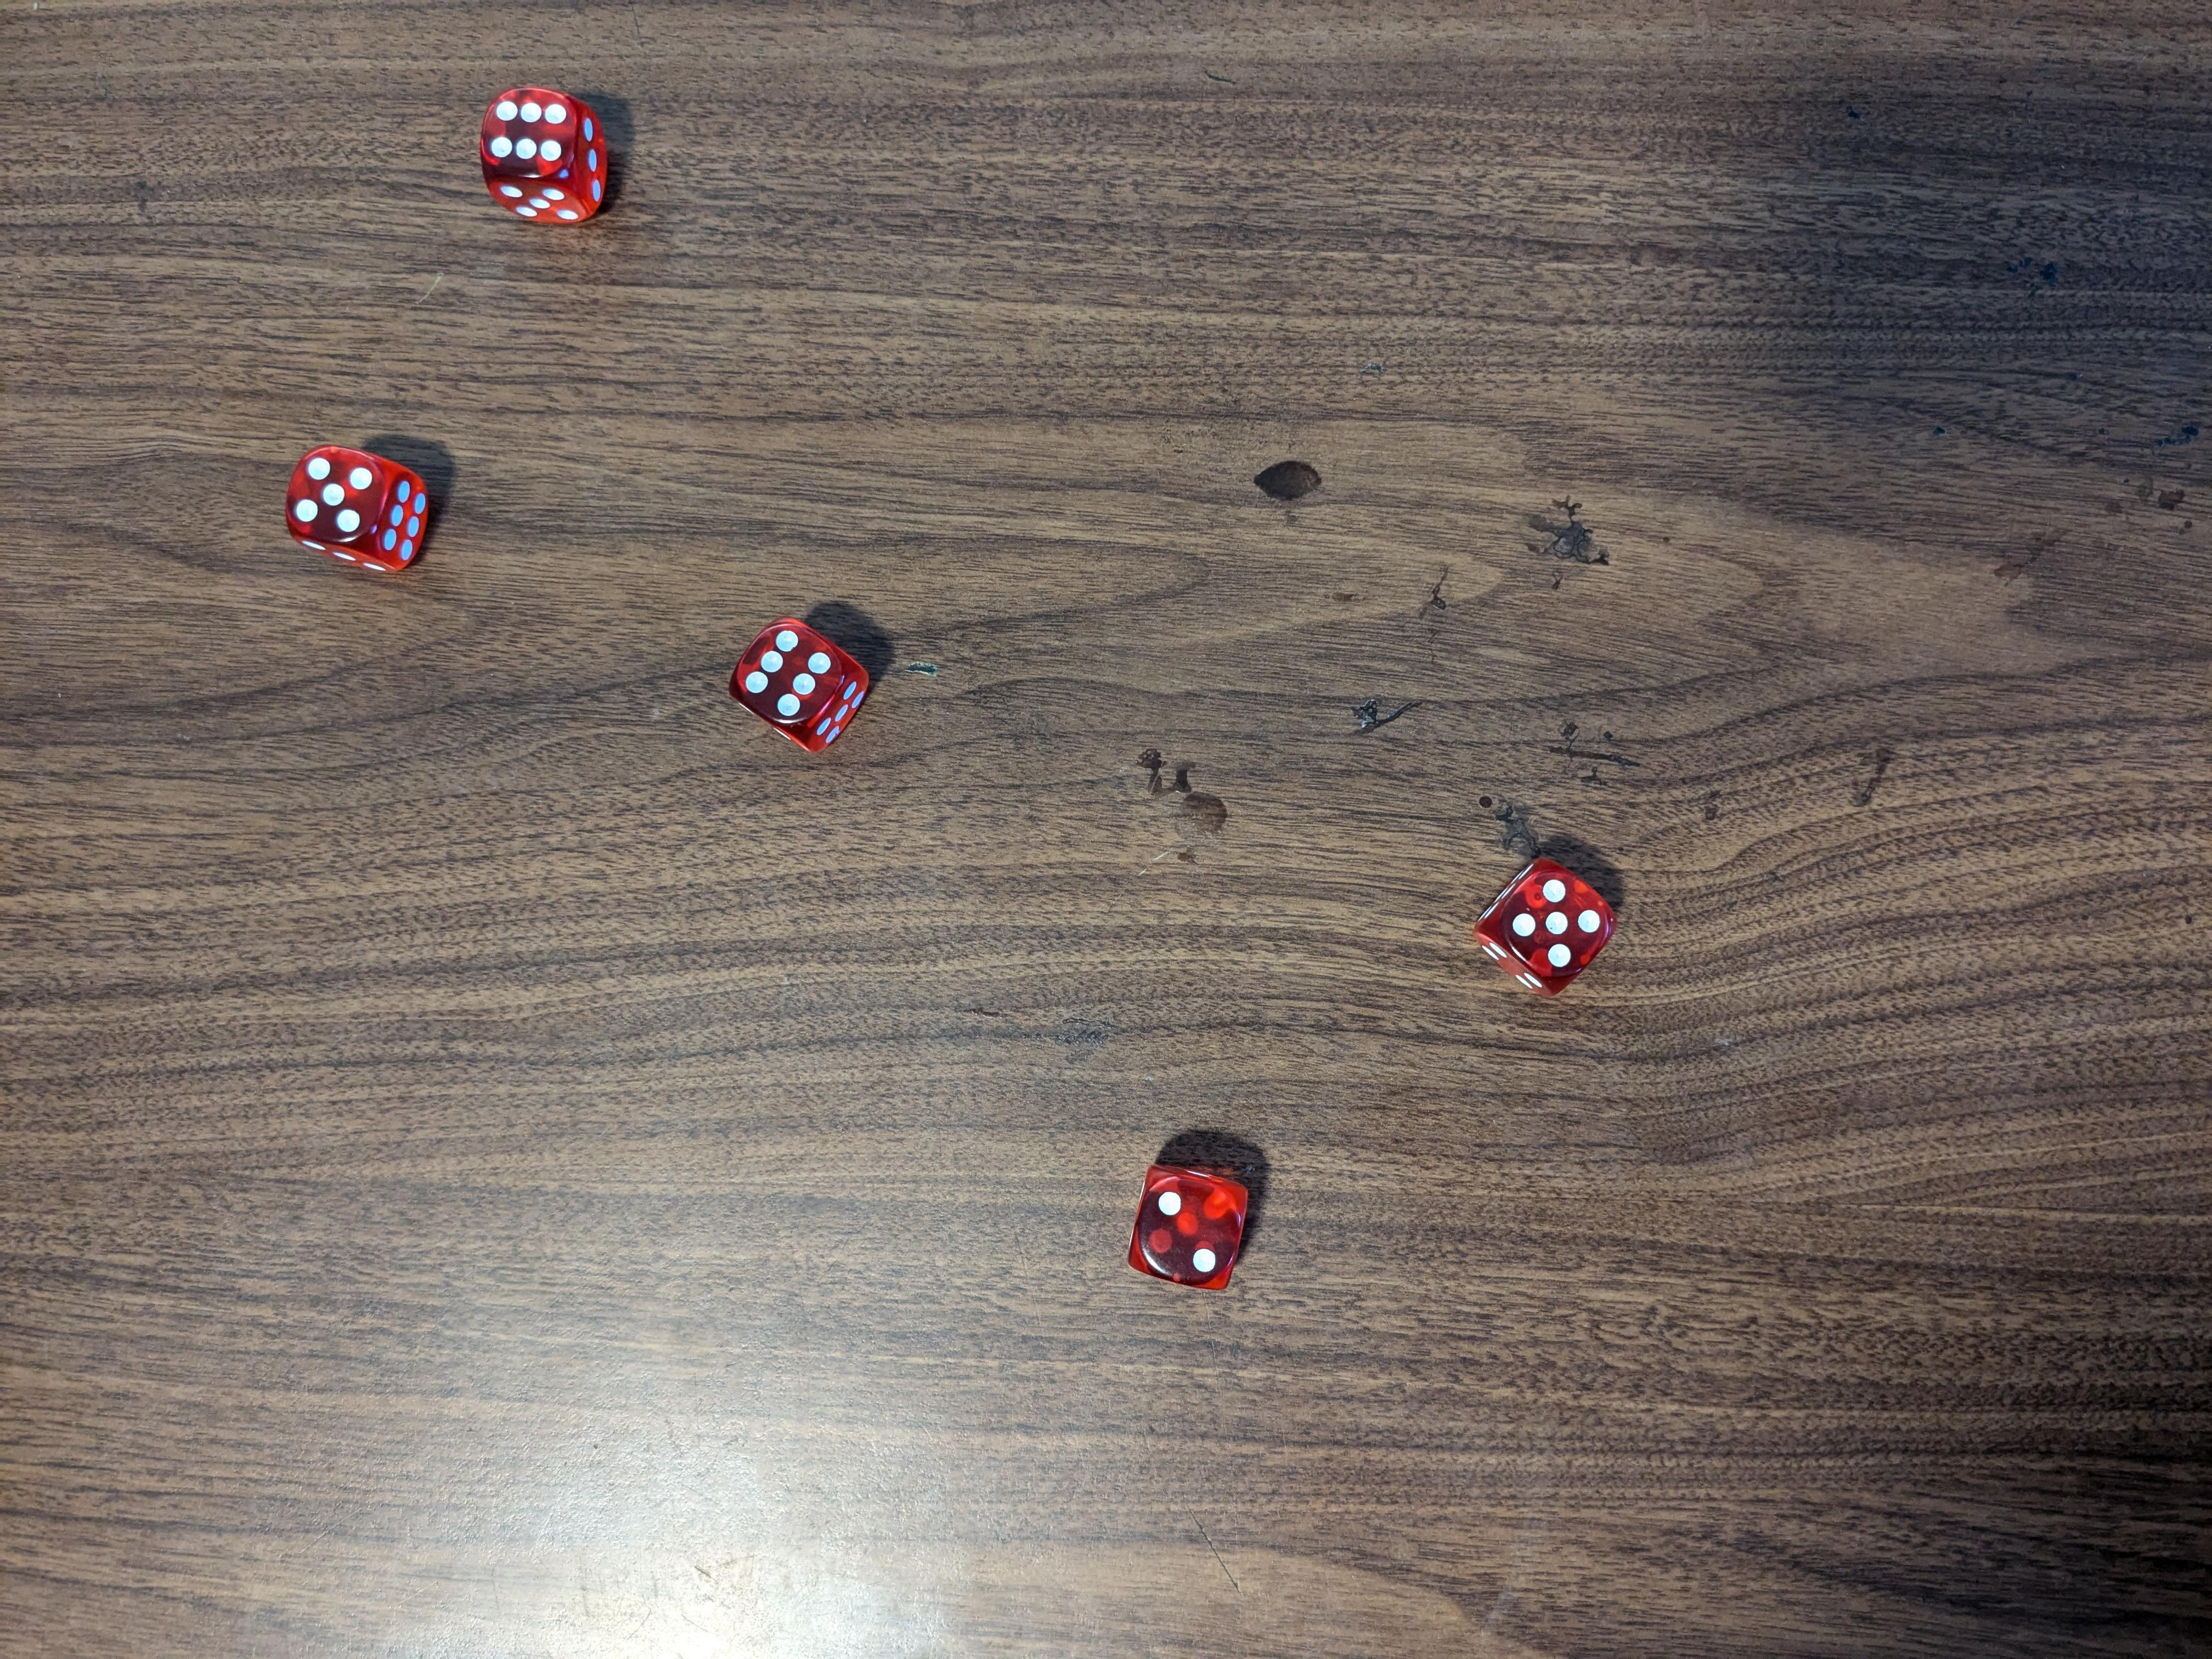five: (1470, 850, 1618, 1004), (286, 439, 434, 575)
six: (730, 615, 871, 756), (482, 82, 608, 228)
two: (1127, 1164, 1258, 1298)
